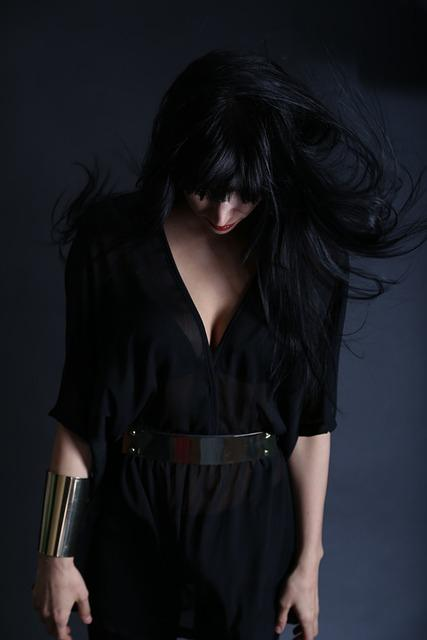gorille_Autres: (40, 36, 426, 640)
